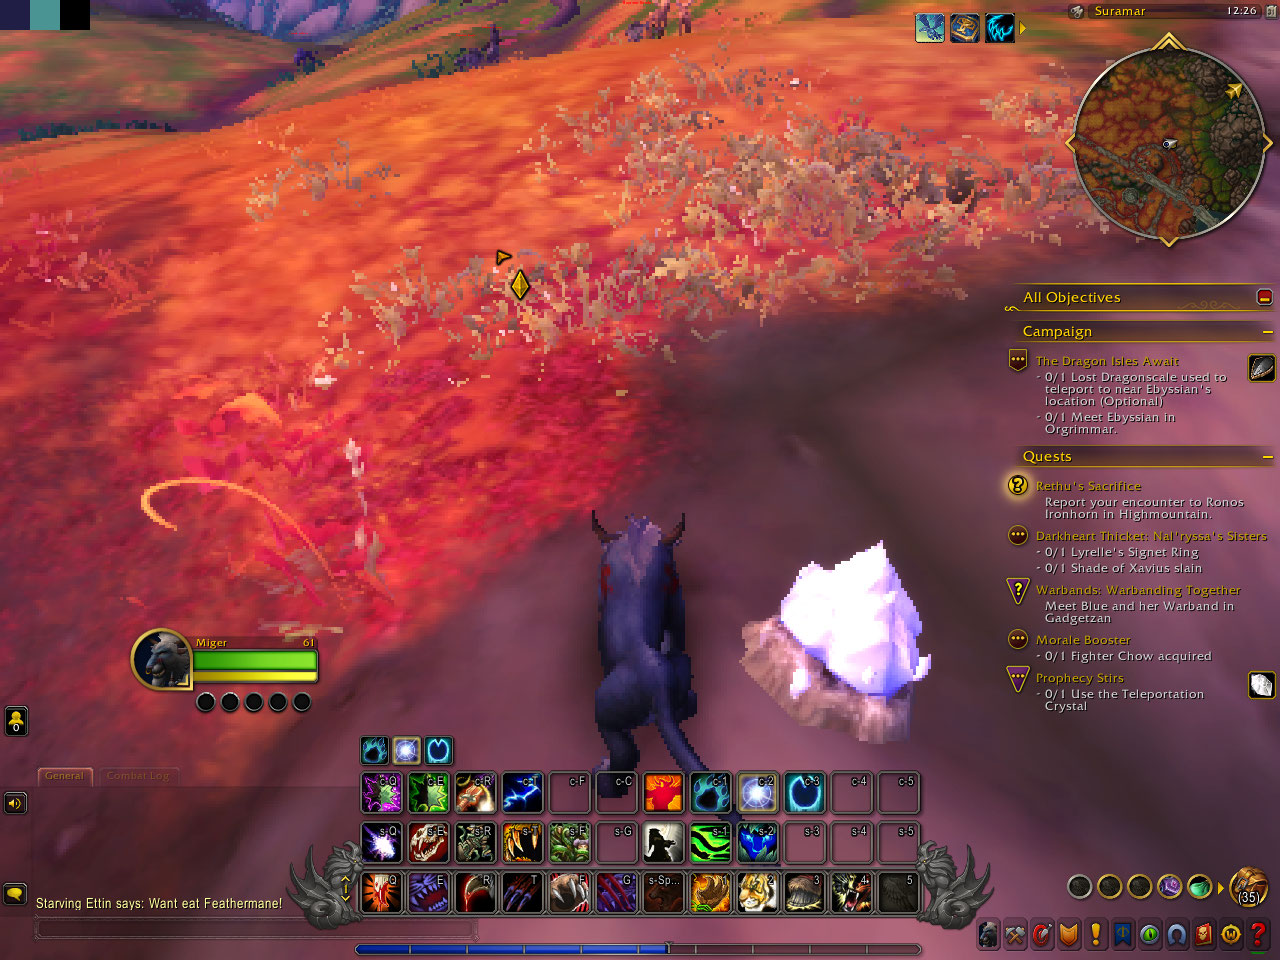ore: (738, 541, 930, 742)
